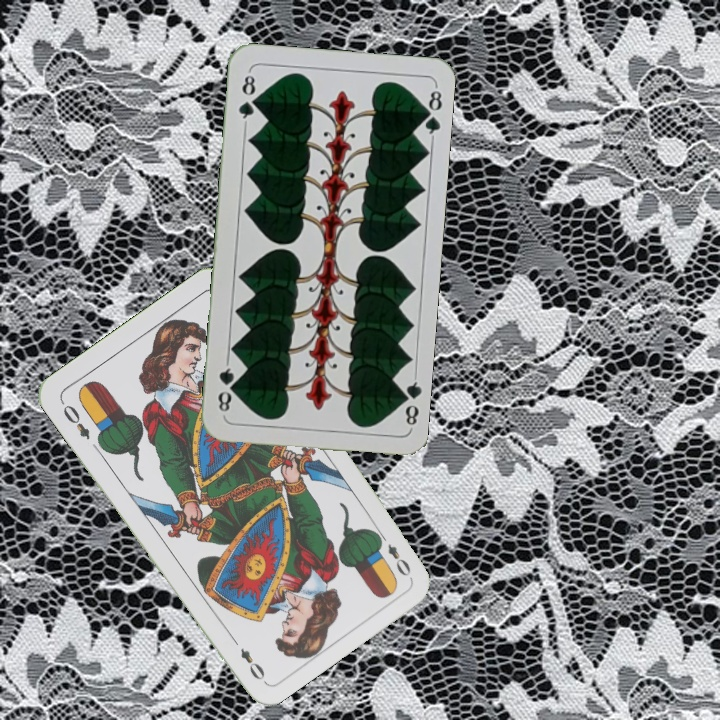EO: (373, 528, 414, 579), (56, 397, 93, 442)
G8: (394, 372, 423, 431), (234, 68, 259, 127)
